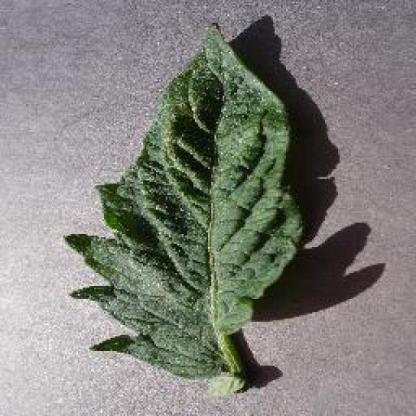Tomato_Spider_Mites: (67, 23, 302, 378)
